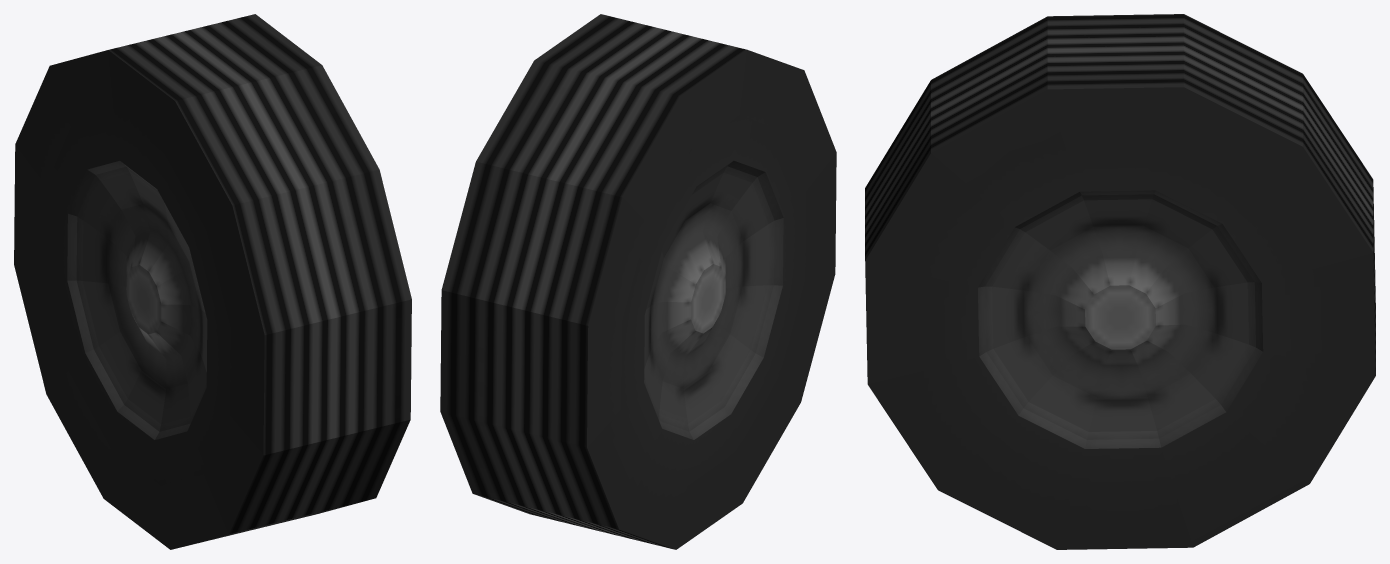
File: D10WheelA.fbx
3 renders of one model, left to right at view 1: azimuth 30°, elevation 25°; view 2: azimuth 150°, elevation 25°; view 3: azimuth 270°, elevation 25°, orthographic. The views are drawn at different scales.
Parts seen in each view (by area): view 1: GavrilWheel; view 2: GavrilWheel; view 3: GavrilWheel.
Part boxes in pixels (left/top/right/bottom): GavrilWheel: left=14, top=14, right=411, bottom=549; GavrilWheel: left=440, top=14, right=836, bottom=549; GavrilWheel: left=865, top=14, right=1375, bottom=549.
Bounding box in the file's own units: 0.3644 × 1.04 × 1.04.
